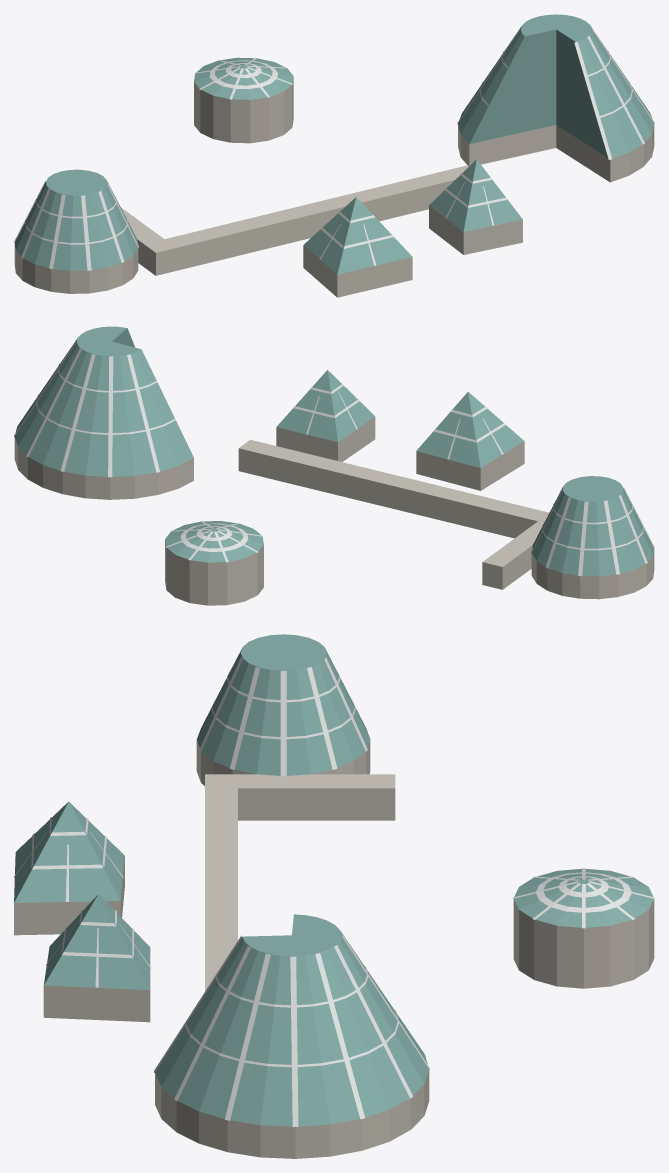
Rendered from sat-halsell-conservatory.glb.
3 renders of one model, top to bottom at view 1: azimuth 30°, elevation 25°; view 2: azimuth 150°, elevation 25°; view 3: azimuth 270°, elevation 25°, orthographic. The views are drawn at different scales.
Parts seen in each view (by area): view 1: Lucile Halsell Conservatory; view 2: Lucile Halsell Conservatory; view 3: Lucile Halsell Conservatory.
Boxes of the visible parts, left/top/right/bottom form: Lucile Halsell Conservatory: left=14, top=14, right=654, bottom=297; Lucile Halsell Conservatory: left=14, top=326, right=654, bottom=605; Lucile Halsell Conservatory: left=14, top=634, right=654, bottom=1158.
Bounding box in the file's own units: 121 × 22.1 × 77.5.
